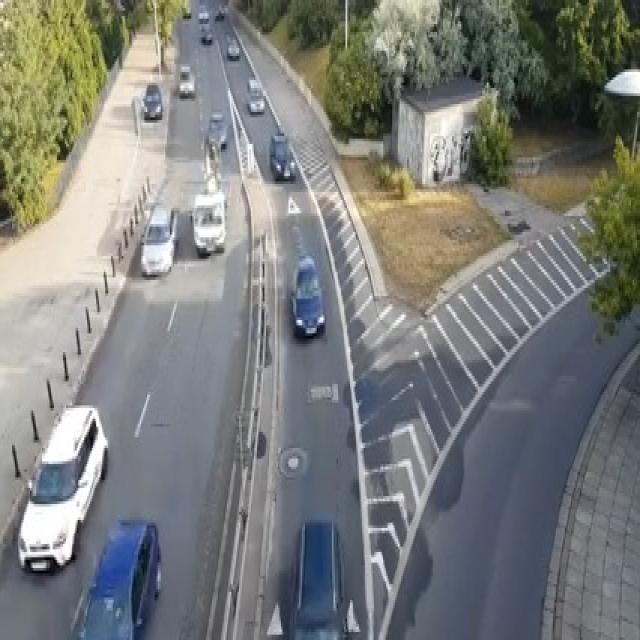car: (17, 403, 108, 573), (70, 515, 160, 637), (288, 515, 347, 637), (290, 253, 324, 339), (140, 203, 178, 277), (191, 189, 225, 256), (269, 131, 296, 181), (203, 133, 221, 184), (141, 83, 162, 120), (207, 112, 227, 149), (247, 77, 264, 115), (178, 64, 195, 96), (227, 37, 239, 59), (197, 3, 209, 21), (200, 29, 212, 43), (217, 0, 228, 13), (182, 5, 191, 19), (215, 8, 224, 21)
